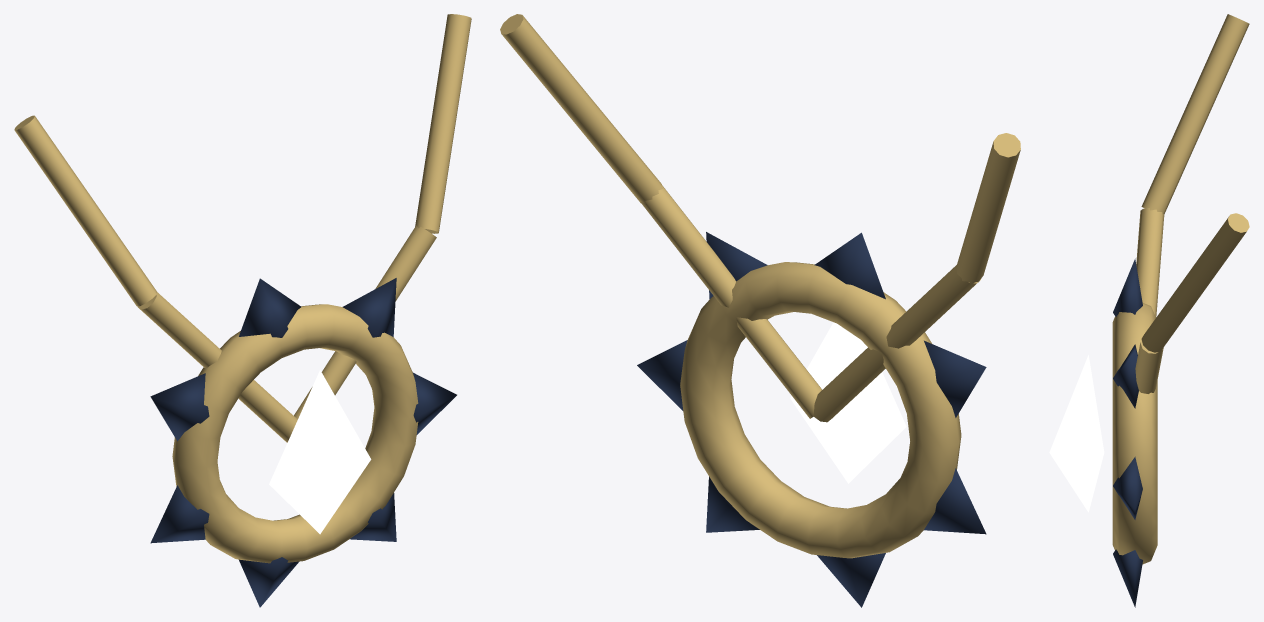
Rendered from boss_starfall_hunter_accessory_3.glb.
3 renders of one model, left to right at view 1: azimuth 30°, elevation 25°; view 2: azimuth 150°, elevation 25°; view 3: azimuth 270°, elevation 25°, orthographic. The views are drawn at different scales.
Visible parts, largest first — view 1: Boss_starfall_hunter_1, Boss_starfall_hunter_0, Boss_starfall_hunter_2; view 2: Boss_starfall_hunter_1, Boss_starfall_hunter_0, Boss_starfall_hunter_2; view 3: Boss_starfall_hunter_1, Boss_starfall_hunter_2, Boss_starfall_hunter_0.
Part boxes in pixels (bbox=[...]): Boss_starfall_hunter_1: bbox=[14, 14, 471, 563]; Boss_starfall_hunter_0: bbox=[150, 278, 456, 607]; Boss_starfall_hunter_2: bbox=[269, 370, 371, 534]; Boss_starfall_hunter_1: bbox=[500, 14, 1020, 558]; Boss_starfall_hunter_0: bbox=[637, 232, 986, 607]; Boss_starfall_hunter_2: bbox=[790, 322, 906, 483]; Boss_starfall_hunter_1: bbox=[1112, 14, 1249, 564]; Boss_starfall_hunter_2: bbox=[1049, 355, 1104, 512]; Boss_starfall_hunter_0: bbox=[1113, 258, 1142, 607].
Bounding box in the file's own units: 0.2925 × 0.3054 × 0.1162.
